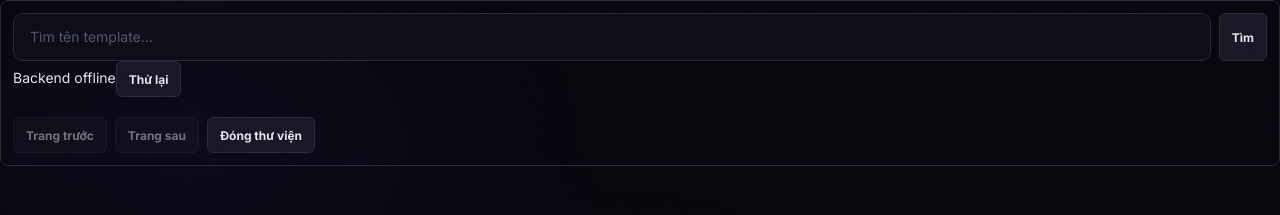
Test: recovers after API errors and reports partial migration
Expected: the message shows "Backend offline", [13,70,116,87]
What coordinates should you click on to do the following:
click the button "Thử lại"
I would click on:
 (149, 79)
Its box is [116,61,182,97].
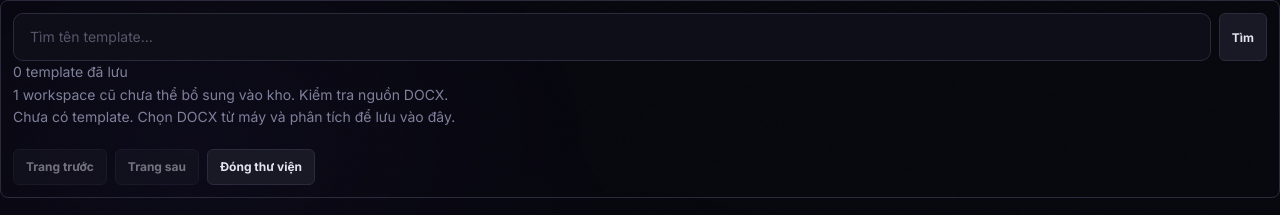
Result: the text "1 workspace cũ chưa thể bổ sung vào kho. Kiểm tra nguồn DOCX." is shown at [13,86,448,103]
Result: the text "Chưa có template" is shown at [13,108,455,125]
